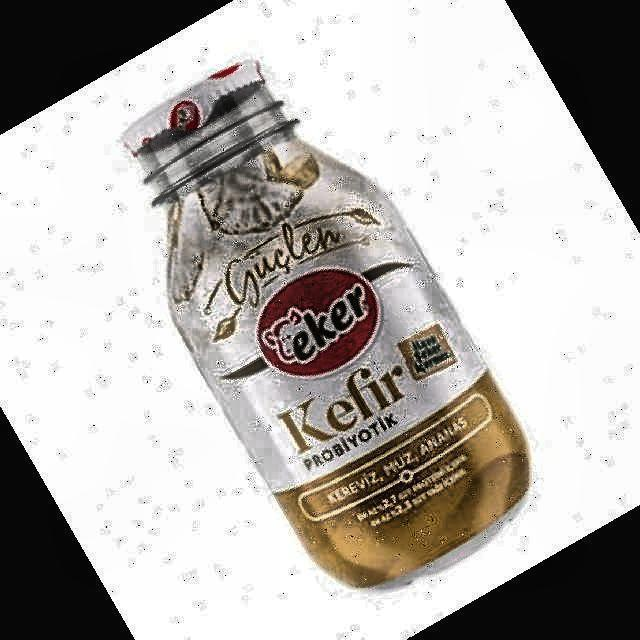plastic: (124, 62, 529, 586)
